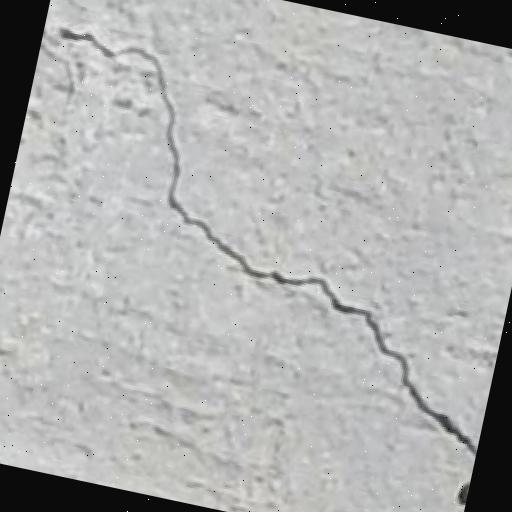spalling: (48, 9, 476, 506)
